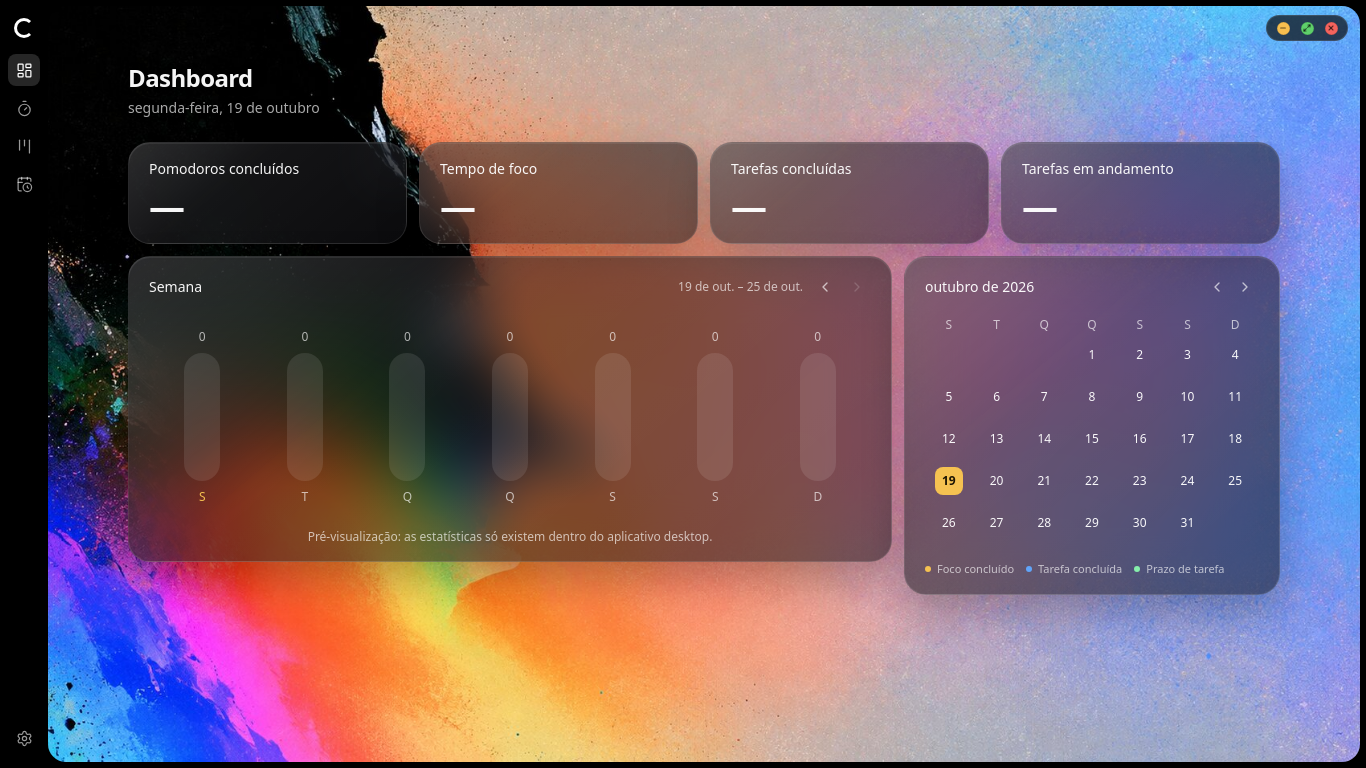
it: App › troca de tela ao usar a navegação
Click the button named "Kanban" at [24, 146], box [8,130,40,162]
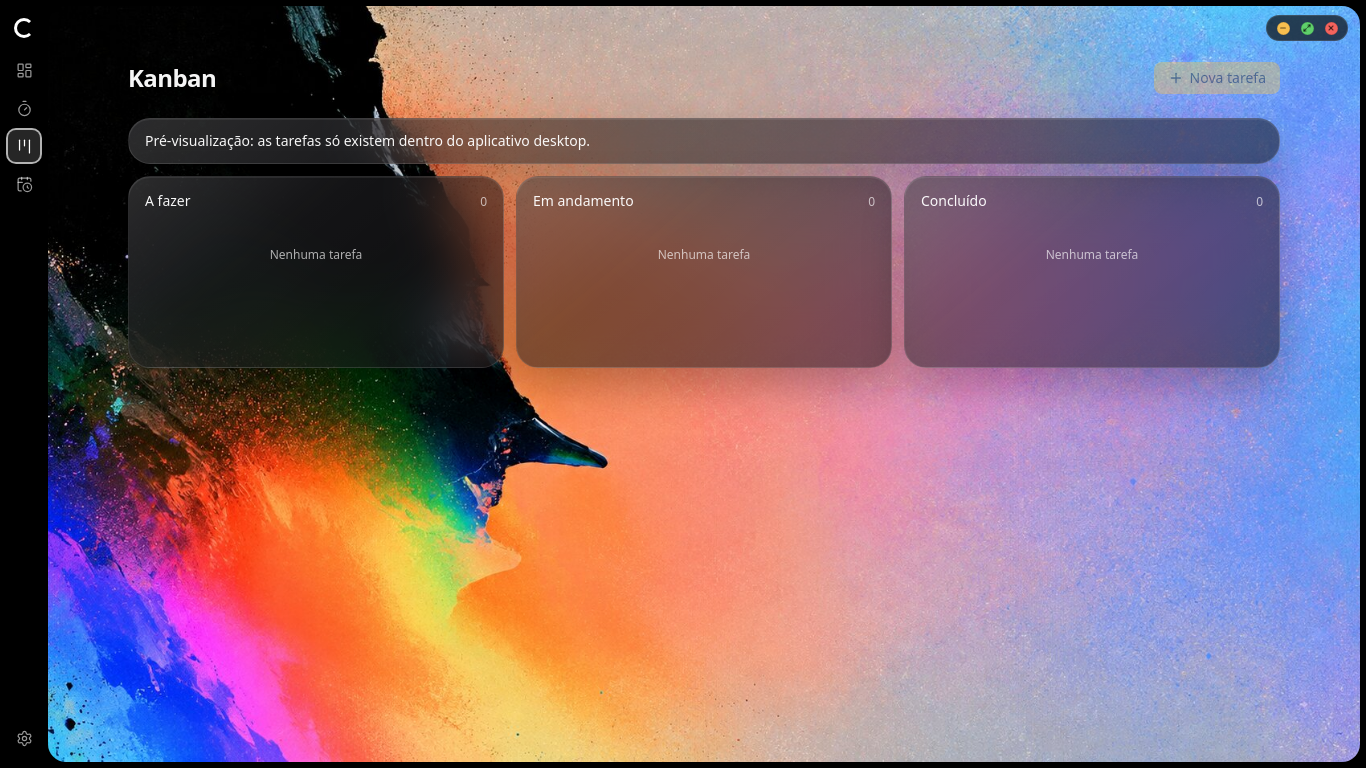
Expected: the heading "Kanban" is shown, [128,62,216,94]
